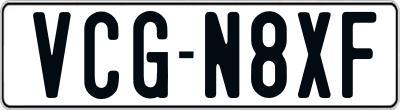8: (251, 10, 289, 101)
C: (81, 10, 116, 99)
F: (341, 10, 376, 100)
G: (131, 10, 169, 99)
N: (204, 12, 239, 104)
V: (30, 12, 69, 101)
X: (297, 11, 333, 103)
